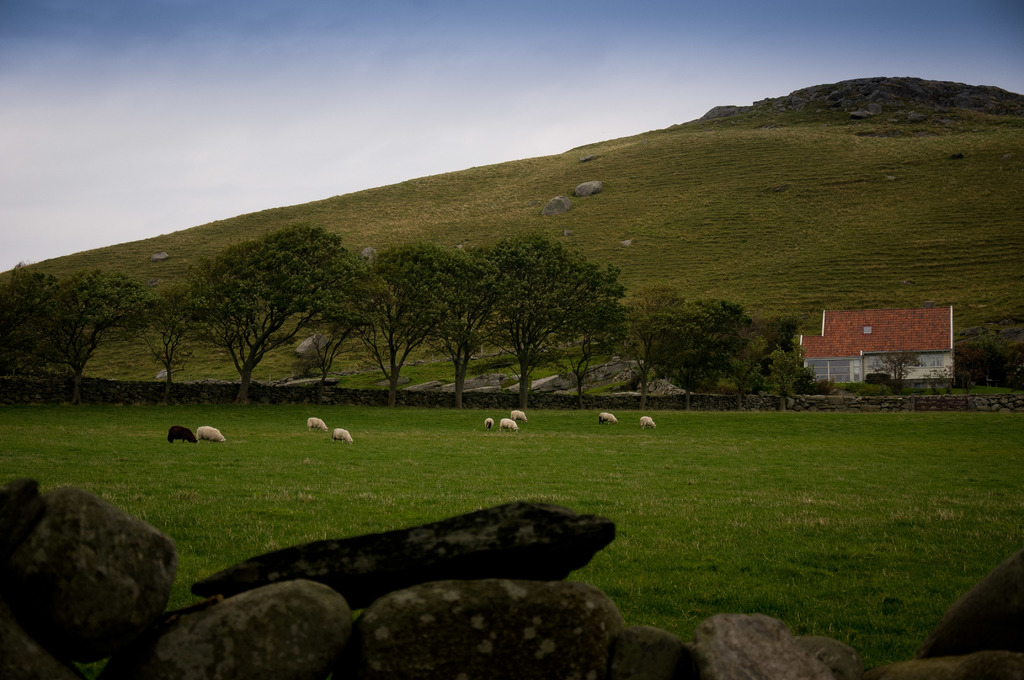sheep: (167, 425, 195, 445), (195, 429, 225, 443), (305, 416, 327, 434), (499, 415, 517, 430), (332, 429, 351, 443), (640, 416, 657, 429), (597, 414, 618, 423), (513, 409, 527, 419), (482, 418, 494, 429)
